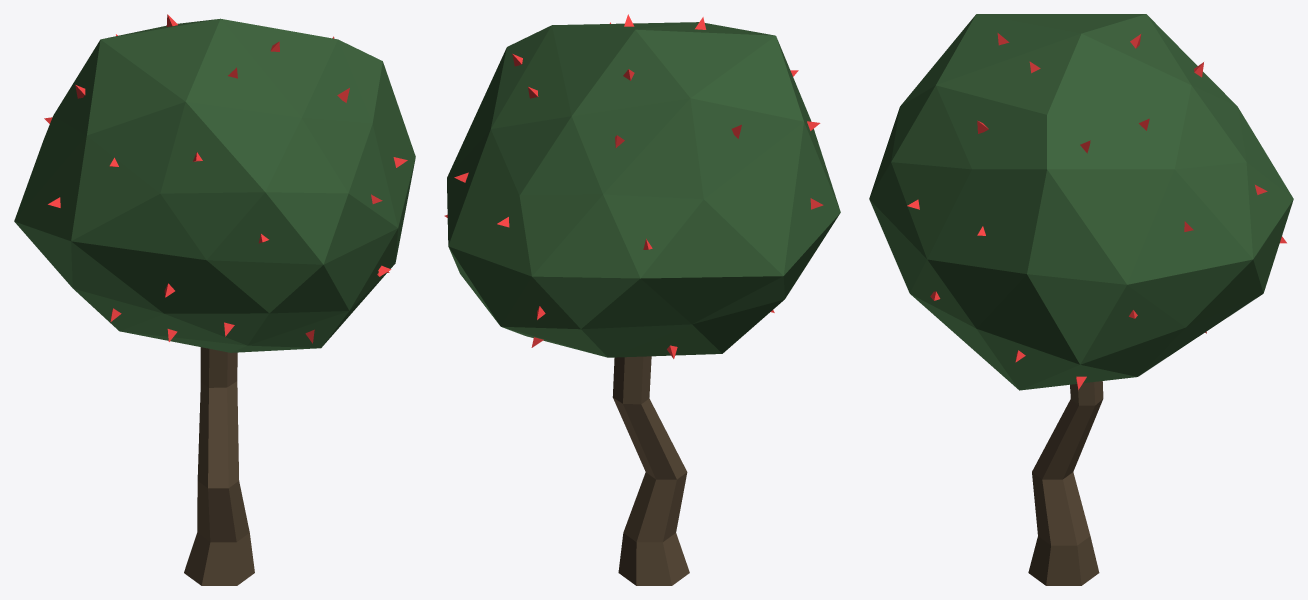
Rendered from Tree_4_Green.fbx.
3 views of the same model, side by side, from view 1: azimuth 30°, elevation 25°; view 2: azimuth 150°, elevation 25°; view 3: azimuth 270°, elevation 25° (orthographic).
Parts seen in each view (by area): view 1: Tree_4_Green_Part_2, Tree_4_Green_Part_1, Tree_4_Green_Part_3; view 2: Tree_4_Green_Part_2, Tree_4_Green_Part_1, Tree_4_Green_Part_3; view 3: Tree_4_Green_Part_2, Tree_4_Green_Part_1, Tree_4_Green_Part_3.
Boxes of the visible parts, x1,y1,x2,y2 form: Tree_4_Green_Part_2: (14, 18, 415, 352); Tree_4_Green_Part_1: (184, 347, 254, 585); Tree_4_Green_Part_3: (44, 14, 407, 343); Tree_4_Green_Part_2: (447, 22, 840, 357); Tree_4_Green_Part_1: (612, 356, 689, 585); Tree_4_Green_Part_3: (444, 14, 823, 358); Tree_4_Green_Part_2: (869, 14, 1293, 390); Tree_4_Green_Part_1: (1028, 381, 1103, 585); Tree_4_Green_Part_3: (907, 33, 1286, 389).
Bounding box in the file's own units: 339 × 507 × 358.
